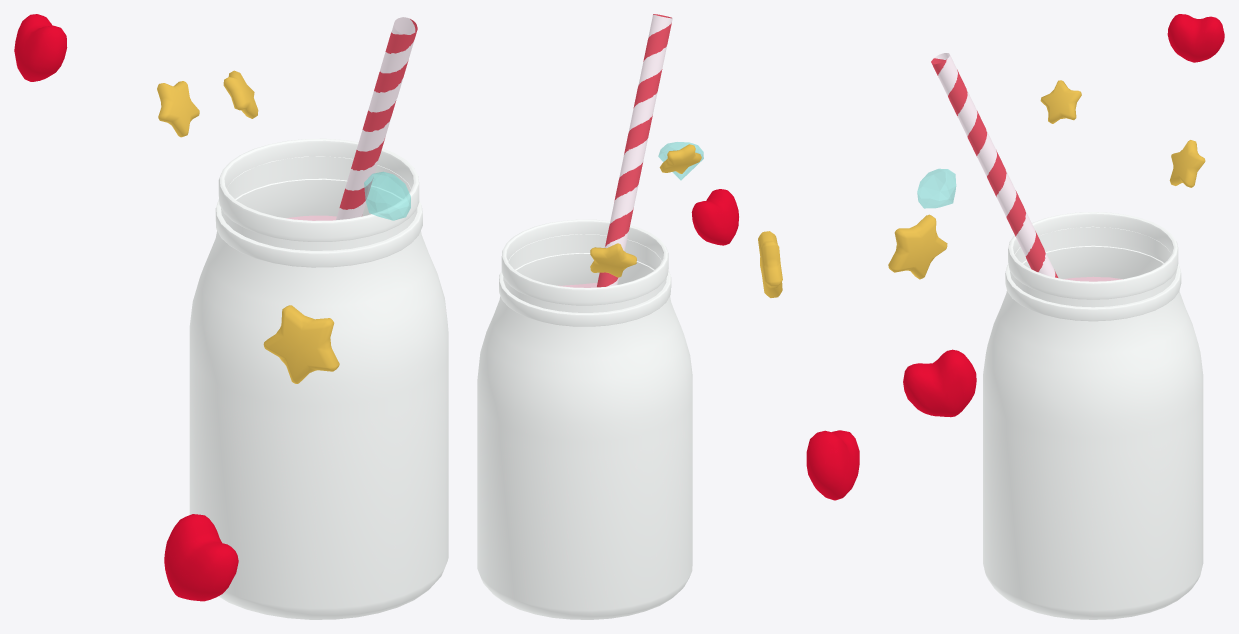
Rendered from milkshake-transformed.glb.
3 views of the same model, side by side, from view 1: azimuth 30°, elevation 25°; view 2: azimuth 150°, elevation 25°; view 3: azimuth 270°, elevation 25° (orthographic). The views are drawn at different scales.
Visible parts, largest first — view 1: Object_4, Object_8, Object_18; view 2: Object_4, Object_8; view 3: Object_4, Object_8, Object_18.
Part boxes in pixels (left/top/right/bottom): Object_4: left=189, top=138, right=448, bottom=619; Object_8: left=14, top=14, right=417, bottom=601; Object_18: left=364, top=171, right=410, bottom=220; Object_4: left=477, top=219, right=692, bottom=619; Object_8: left=590, top=14, right=859, bottom=500; Object_4: left=983, top=212, right=1203, bottom=619; Object_8: left=888, top=14, right=1224, bottom=417; Object_18: left=917, top=168, right=956, bottom=208.
Size of the model in its own units: 0.1342 by 0.2253 by 0.1313.
Materials: 4 (4 with a texture image).
